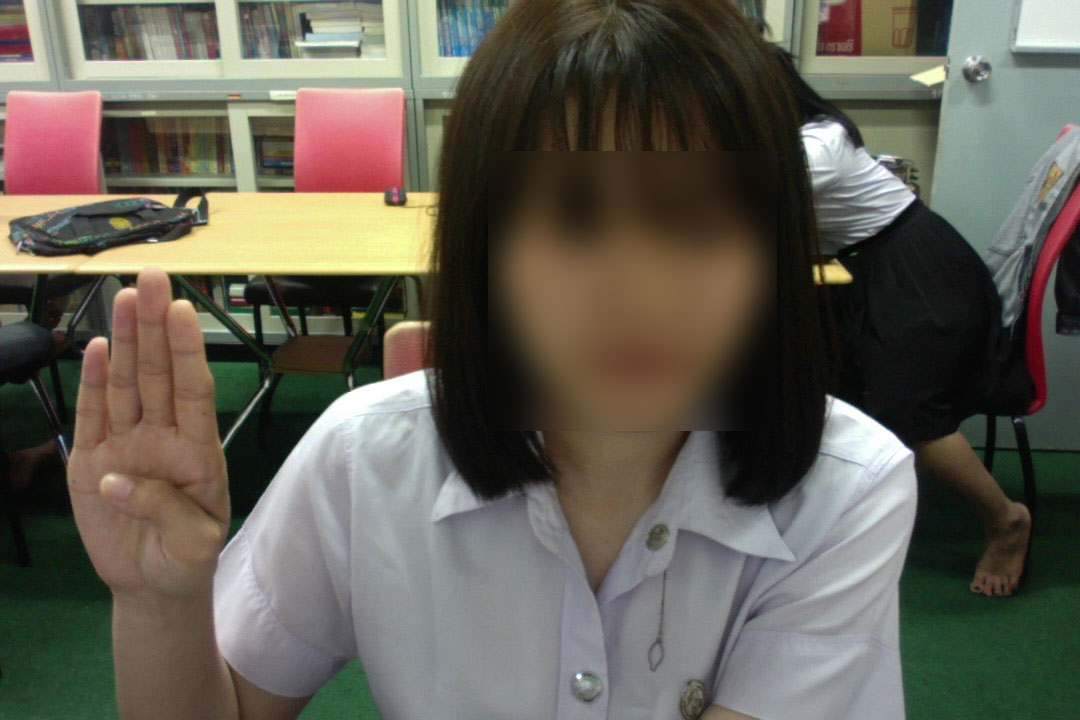bor: (63, 259, 237, 610)
